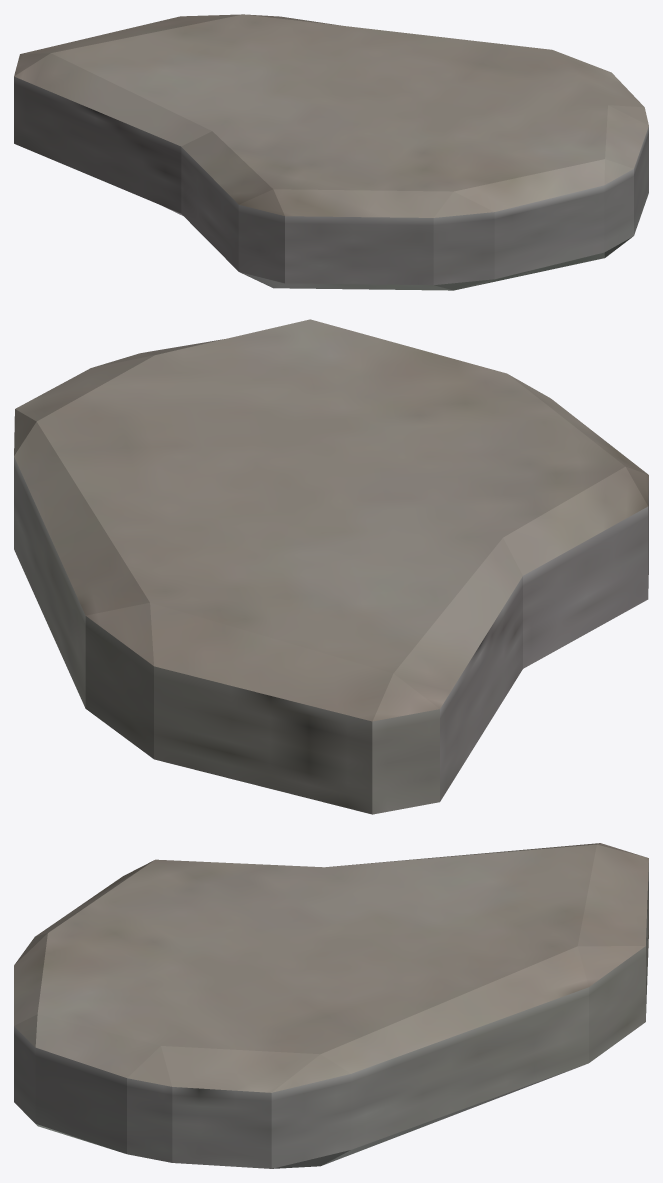
Rendered from Stone_01.fbx.
The picture shows the model from 3 angles, top to bottom: view 1: azimuth 30°, elevation 25°; view 2: azimuth 150°, elevation 25°; view 3: azimuth 270°, elevation 25°; orthographic projection. The views are drawn at different scales.
Parts seen in each view (by area): view 1: Stone_01; view 2: Stone_01; view 3: Stone_01.
Part boxes in pixels (left/top/right/bottom): Stone_01: left=14, top=14, right=648, bottom=290; Stone_01: left=14, top=319, right=648, bottom=814; Stone_01: left=14, top=843, right=648, bottom=1168.
Bounding box in the file's own units: 104 × 21.8 × 112.
